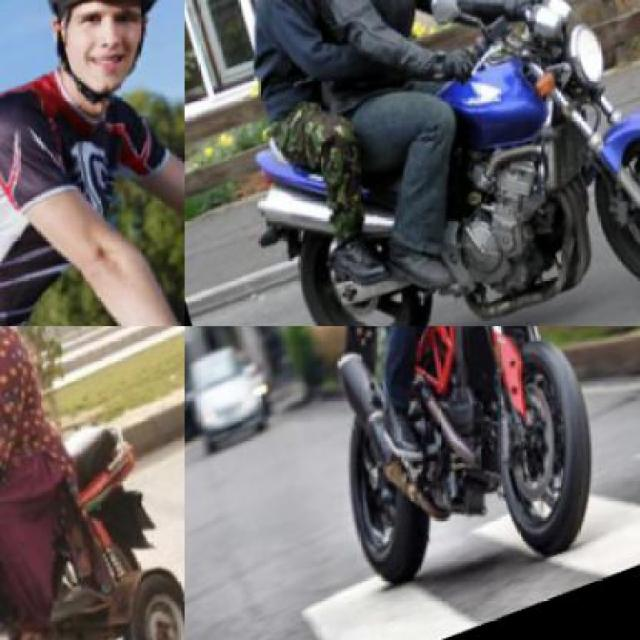With Helmet: (22, 0, 183, 122)
